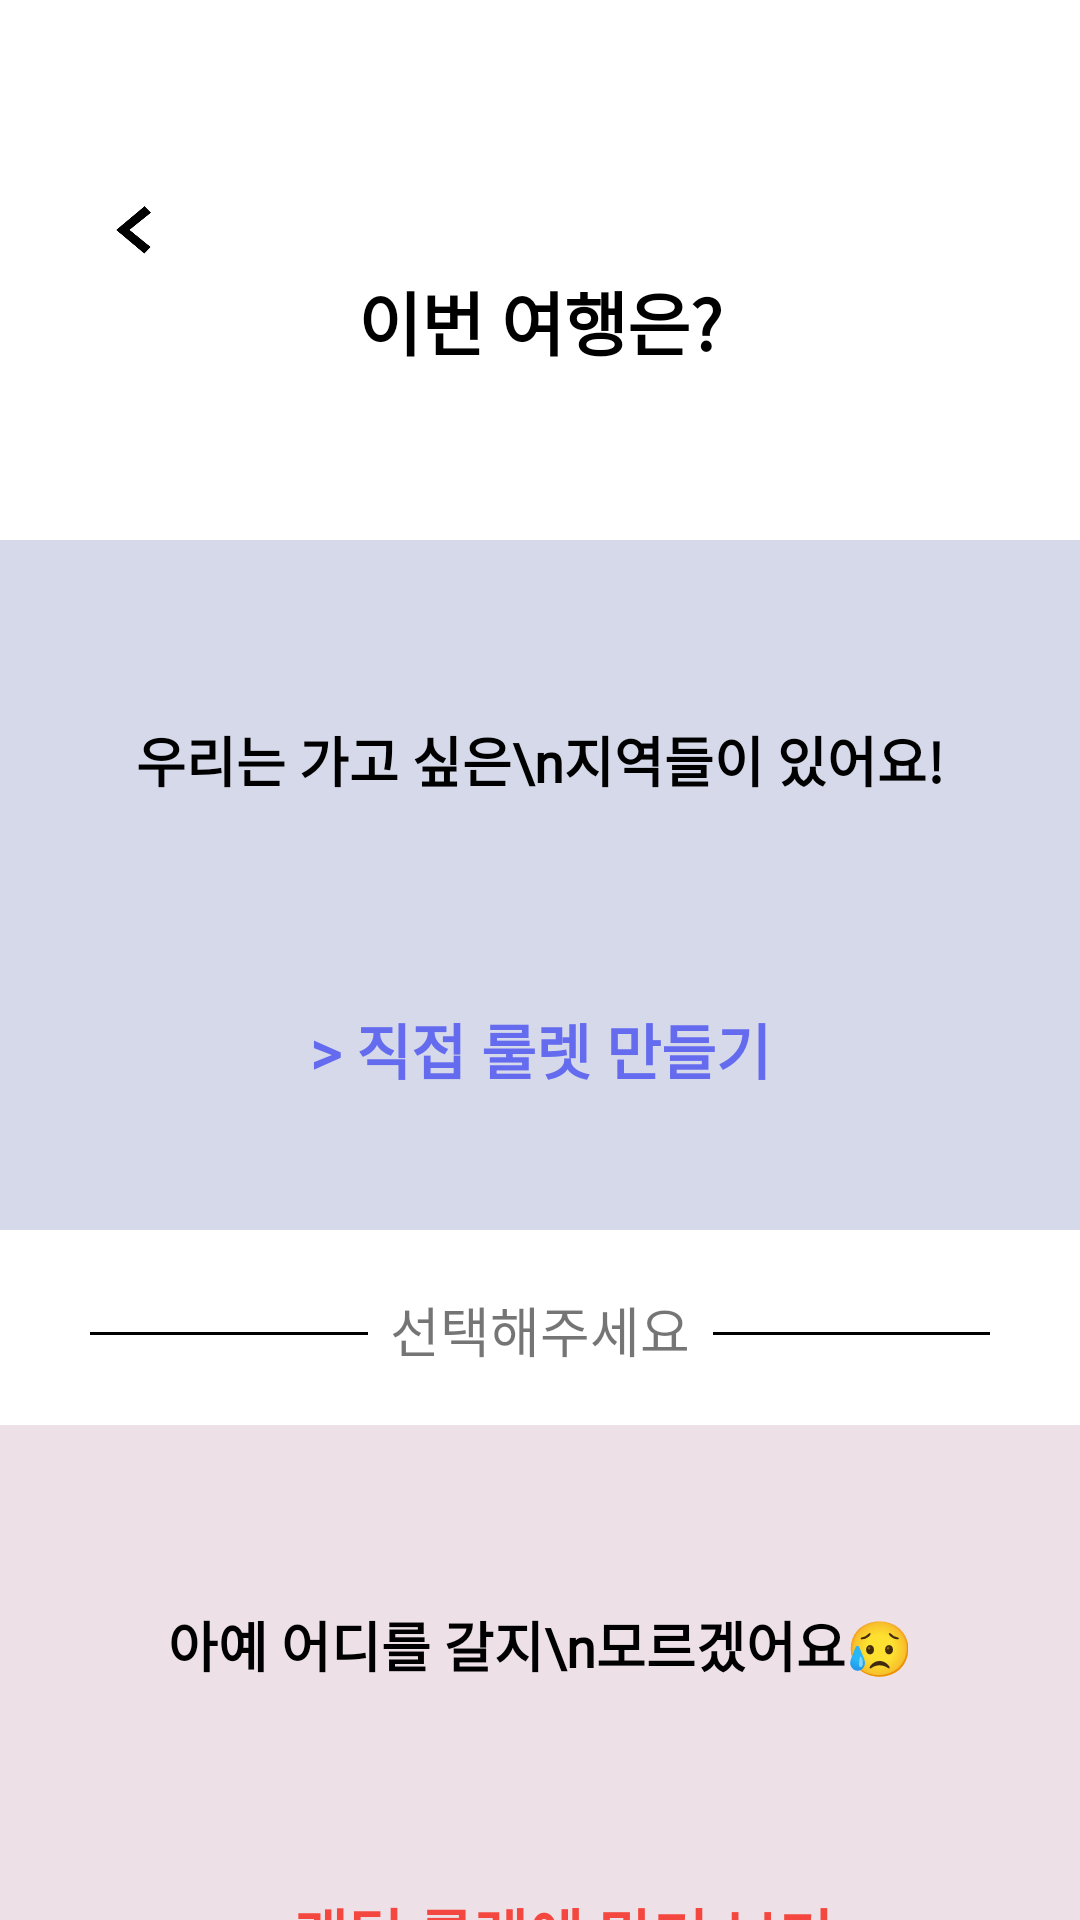

Locate icon controls on the screen. Image size 1080*1920, boxes as (x1, y1, x2, y2).
backbut: (116, 206, 151, 254)
